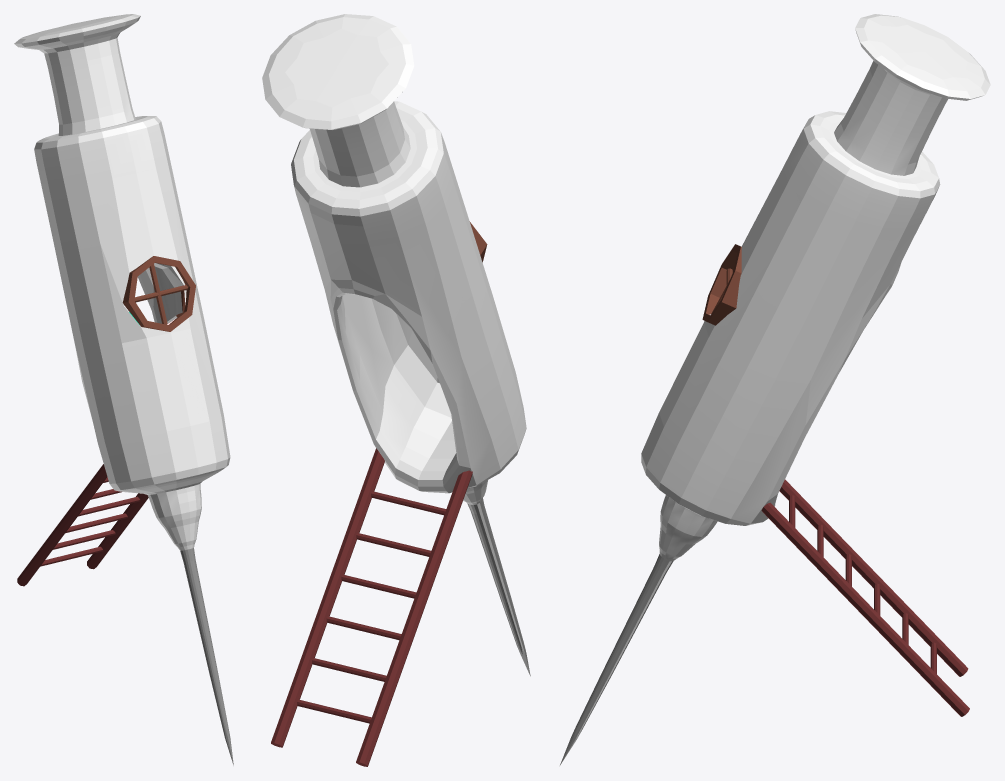
File: Seringue1.fbx
3 views of the same model, side by side, from view 1: azimuth 30°, elevation 25°; view 2: azimuth 150°, elevation 25°; view 3: azimuth 270°, elevation 25° (orthographic). The views are drawn at different scales.
Parts seen in each view (by area): view 1: Cylinder.005; view 2: Cylinder.005; view 3: Cylinder.005.
Part boxes in pixels (left/top/right/bottom): Cylinder.005: left=14, top=14, right=233, bottom=765; Cylinder.005: left=262, top=14, right=530, bottom=766; Cylinder.005: left=560, top=14, right=990, bottom=765.
Bounding box in the file's own units: 92.9 × 496 × 262.
